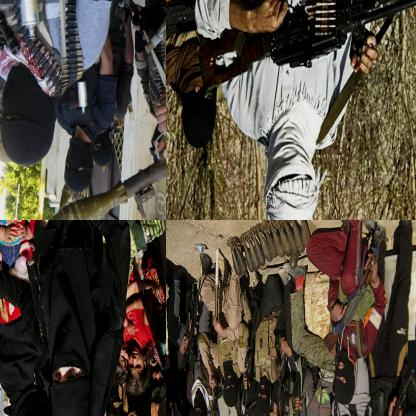rifle: (3, 80, 165, 219), (197, 0, 415, 99), (322, 230, 387, 358), (367, 363, 415, 415), (179, 276, 204, 369), (141, 0, 165, 59), (203, 371, 227, 415), (283, 380, 307, 415), (233, 377, 255, 415), (269, 376, 287, 415), (326, 392, 346, 415)
